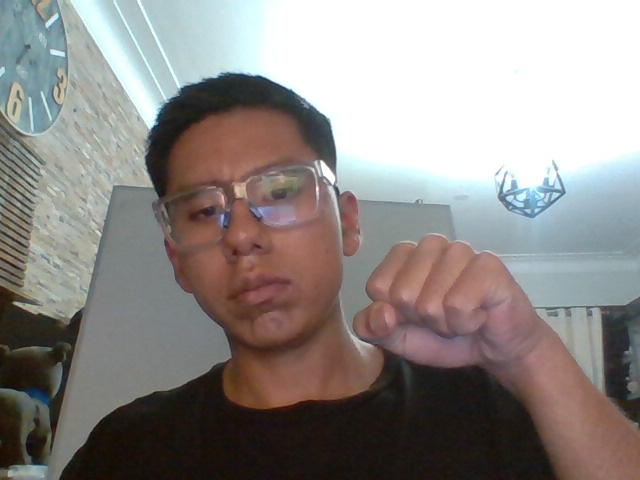Yes: (351, 233, 537, 376)
